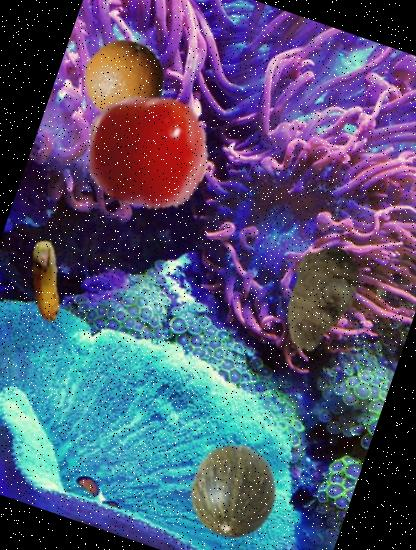Banana: (0, 228, 99, 335)
Ginger: (250, 228, 390, 368)
Melon: (176, 432, 294, 550)
Orange: (73, 27, 177, 132)
Tomato: (70, 72, 226, 228)
